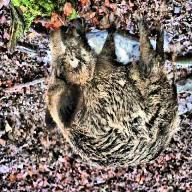boar: (41, 30, 182, 176)
